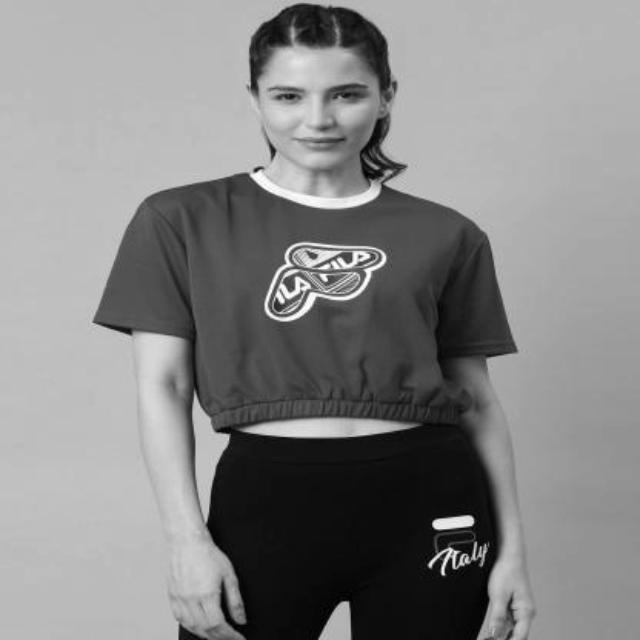FILA_original: (247, 208, 407, 340)
